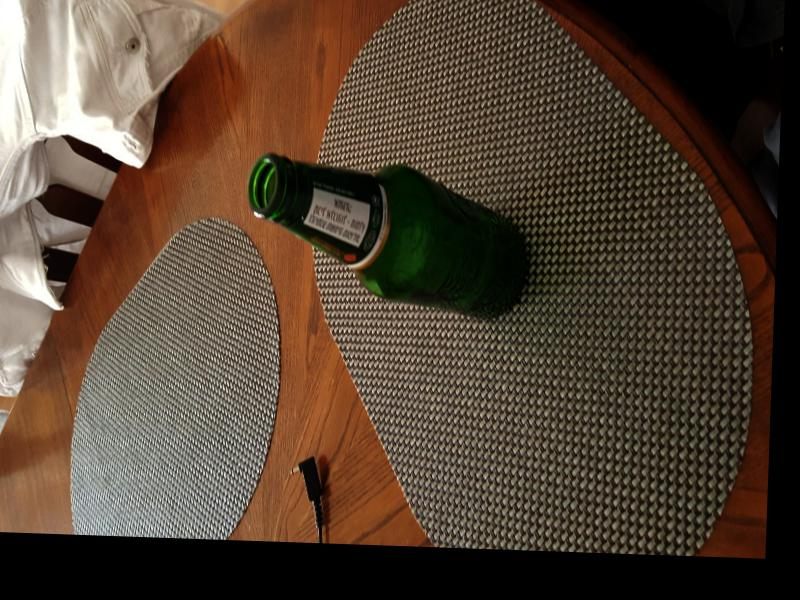Beer: (247, 164, 530, 321)
